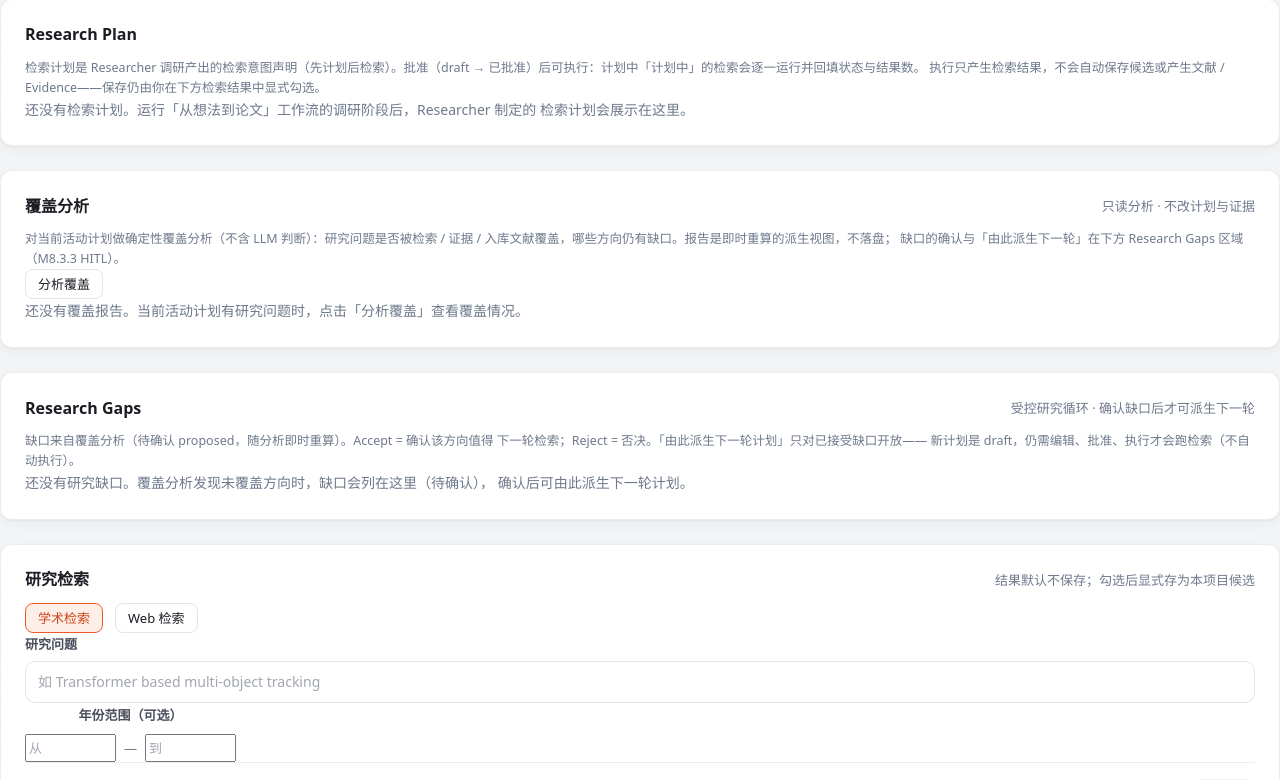
Test: DiscoveryPanel（M7.1c Discovery 候选 UI） › 本地校验：年份区间颠倒 → 提示且不发起请求
Type "tracking" into the field labelled "研究问题" at point(640, 682), box [25, 661, 1255, 703]
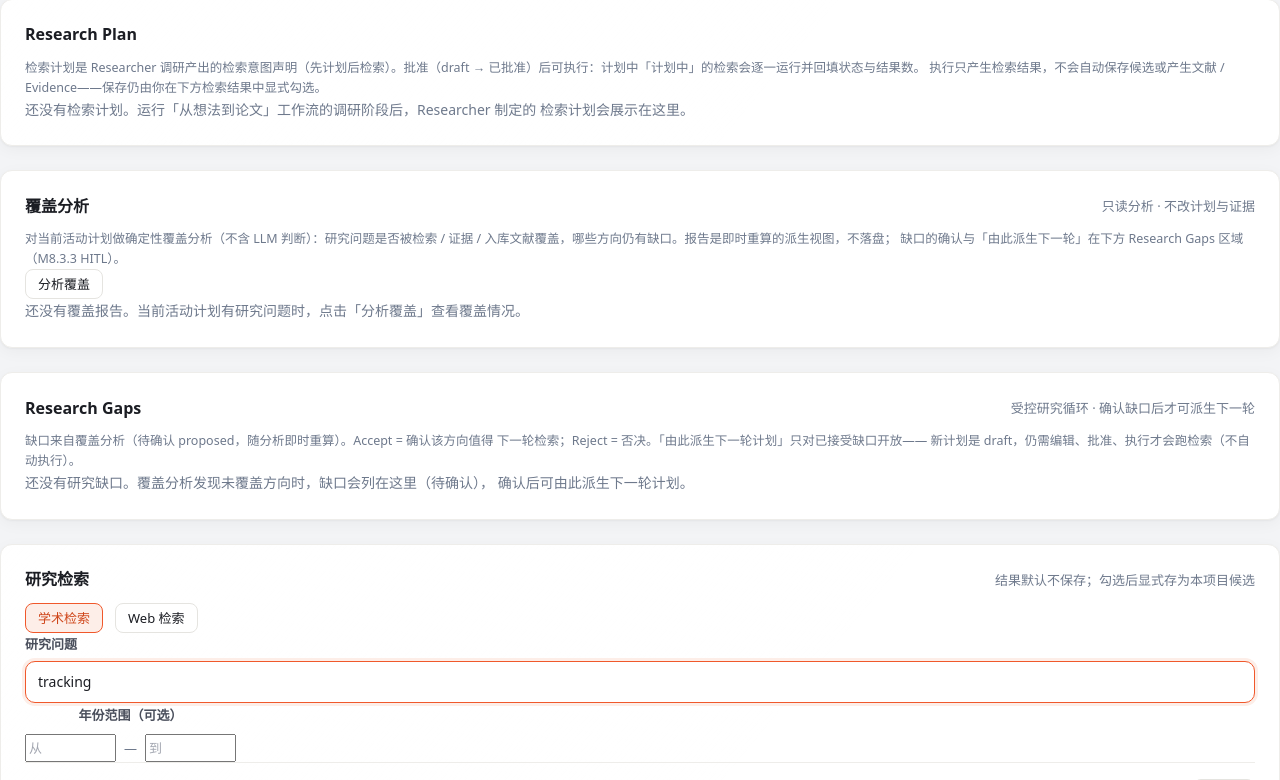
Type "2024" into the number field labelled "年份范围（可选）" at point(70, 748), box [25, 734, 116, 762]
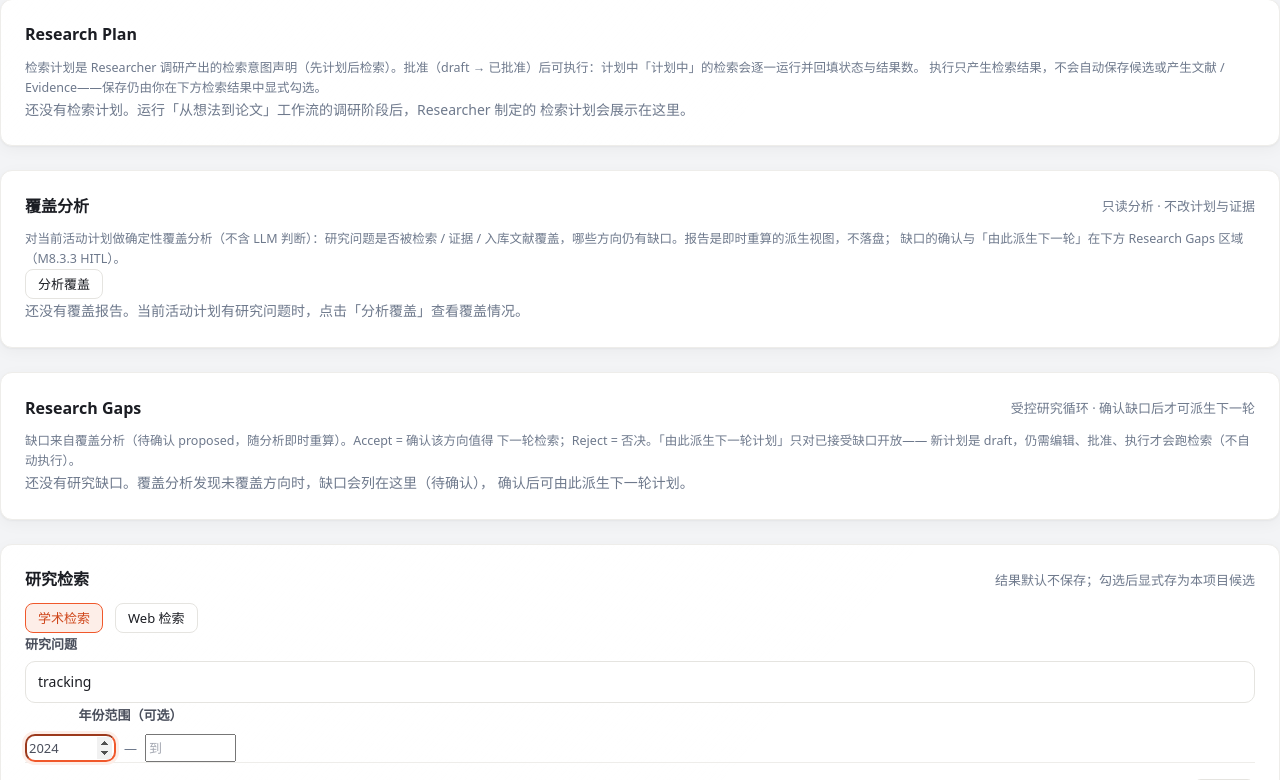
Type "2020" into the number field named "结束年份" at point(190, 748), box [145, 734, 236, 762]
(page scrolled)
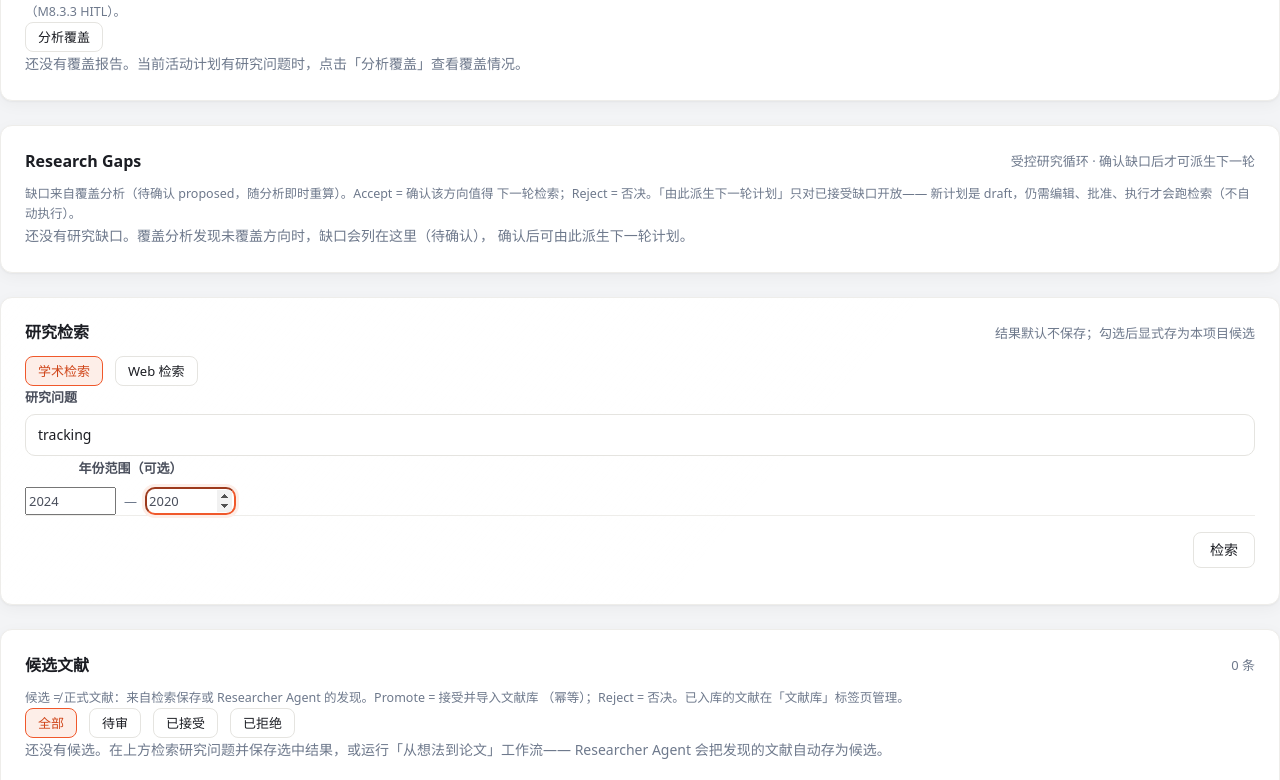
Click the button "检索" at point(1224, 550), box [1193, 532, 1255, 568]
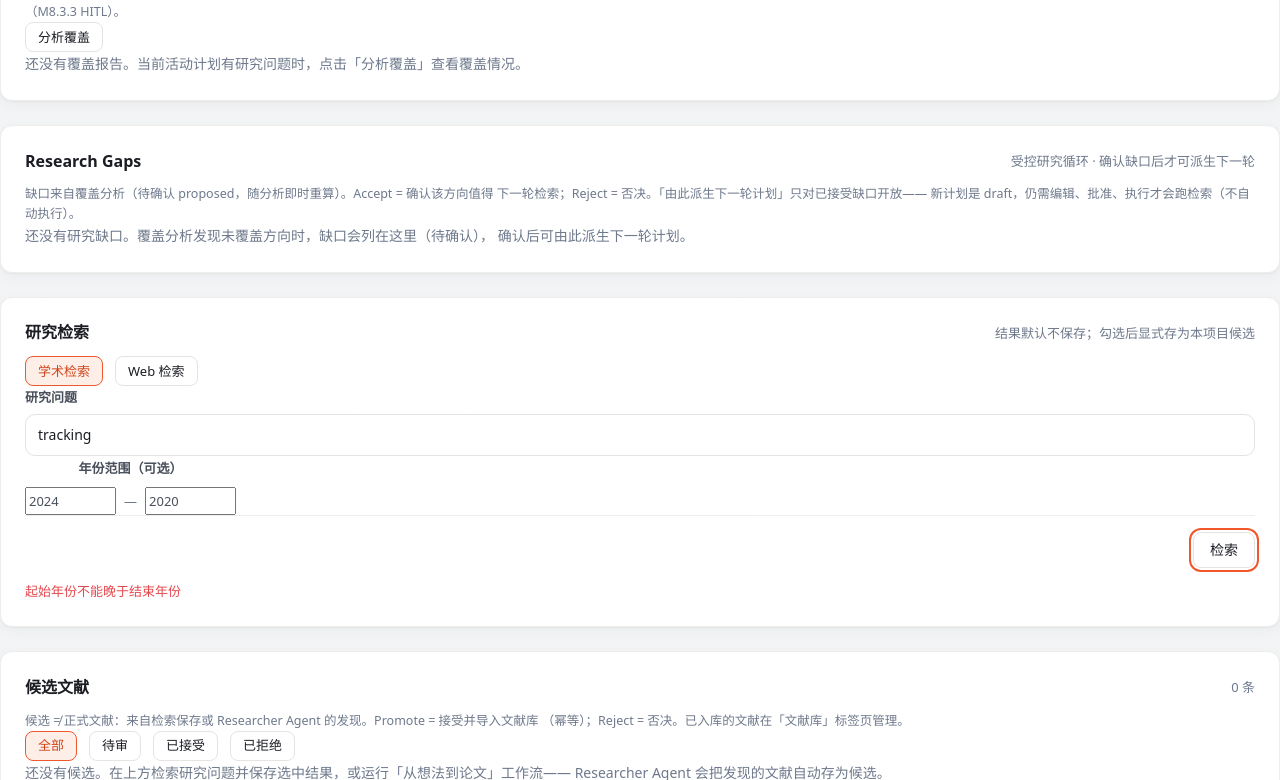
Check: the text "起始年份不能晚于结束年份" is shown, box [25, 582, 181, 600]
